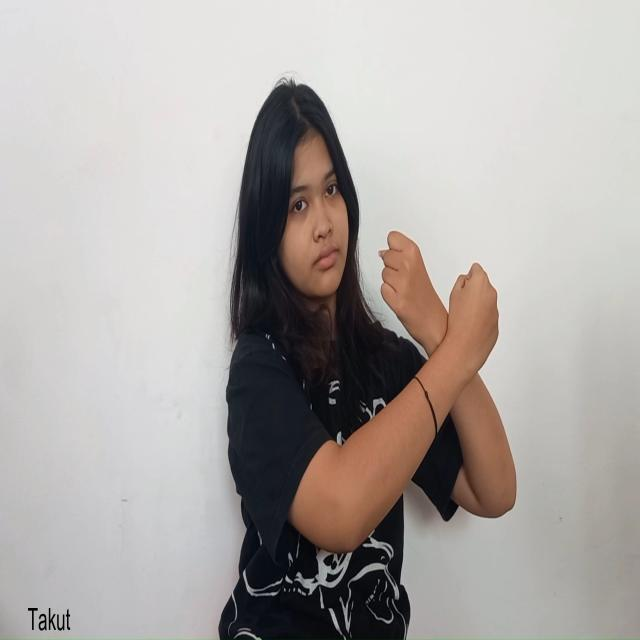Takut -BISINDO-: (378, 228, 499, 424)
